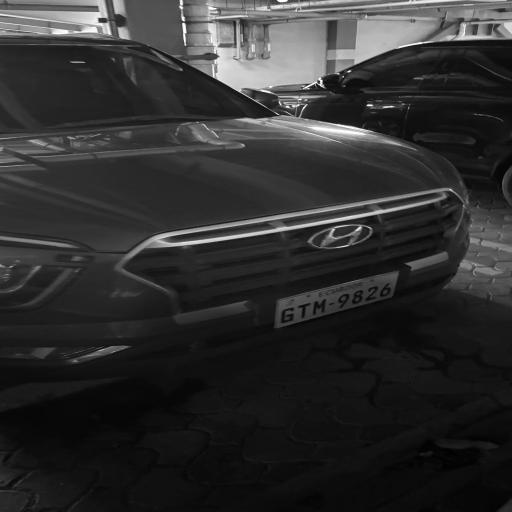license_plate: (275, 271, 399, 328)
